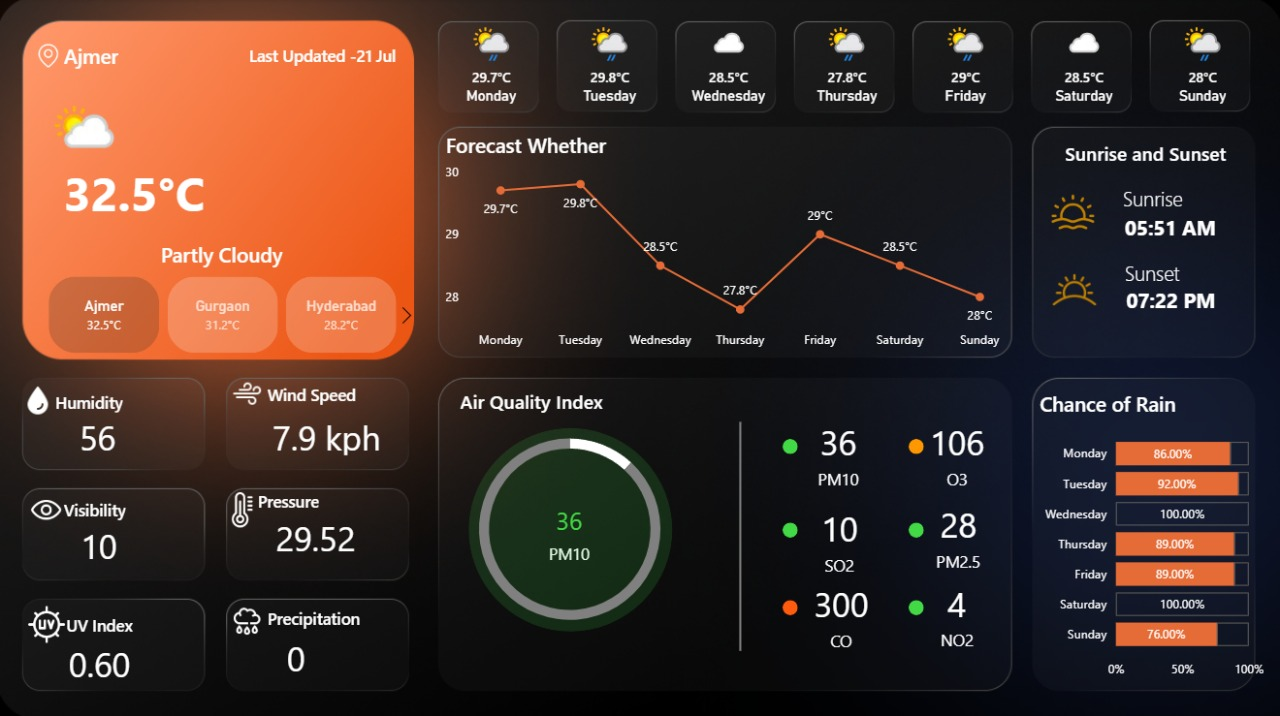

This screenshot's page, from the dashboard's own definition file:
{"tool":"powerbi","page":{"name":"Page 1","canvas":[1280,720],"ordinal":0},"visuals":[{"type":"advancedSlicerVisual","fields":{"Values":["Locations.location.name"]},"box":[26.1,273.1,396.6,86.4],"z":0},{"type":"shape","box":[49.4,149.6,174.3,86.4],"z":1000},{"type":"shape","box":[50.8,236,345.8,37],"z":2000},{"type":"shape","box":[65.9,26.1,171.5,61.7],"z":3000},{"type":"shape","box":[185.2,32.9,211.3,48],"z":4000},{"type":"image","box":[31.6,41.2,38.4,32.9],"z":5000},{"type":"cardVisual","fields":{"Data":["Min(Current.current.condition.icon)"]},"box":[31.6,81,97.4,74.1],"z":6000},{"type":"image","box":[16.5,487.1,64.5,45.3],"z":7000},{"type":"image","box":[16.5,599.7,64.5,49.4],"z":8000},{"type":"image","box":[19.2,381.5,42.5,39.8],"z":9000},{"type":"image","box":[229.2,373.2,39.8,42.5],"z":10000},{"type":"image","box":[218.2,487.1,50.8,45.3],"z":11000},{"type":"image","box":[1029.2,256.6,86.4,67.2],"z":12000},{"type":"image","box":[216.8,599.7,63.1,42.5],"z":13000},{"type":"shape","box":[269,381.5,105.7,26.1],"z":14000},{"type":"shape","box":[57.6,377.4,71.4,48],"z":15000},{"type":"shape","box":[269,594.2,105.7,48],"z":16000},{"type":"shape","box":[65.9,484.4,83.7,48],"z":17000},{"type":"shape","box":[68.6,599.7,81,48],"z":18000},{"type":"shape","box":[259.3,484.4,90.6,31.6],"z":19000},{"type":"card","fields":{"Values":["Sum(Current.current.humidity)"]},"box":[70,415.8,60.4,43.9],"z":20000},{"type":"card","fields":{"Values":["_Measures.Wind_Speed"]},"box":[259.3,415.8,137.2,43.9],"z":21000},{"type":"card","fields":{"Values":["Sum(Current.current.pressure_in)"]},"box":[269,516,96.1,43.9],"z":22000},{"type":"card","fields":{"Values":["Sum(Current.current.vis_km)"]},"box":[61.7,516,79.6,60.4],"z":23000},{"type":"card","fields":{"Values":["Sum(Current.current.uv)"]},"box":[61.7,642.2,81,43.9],"z":24000},{"type":"card","fields":{"Values":["Sum(Current.current.precip_mm)"]},"box":[252.5,628.5,90.6,59],"z":25000},{"type":"advancedSlicerVisual","fields":{"Values":["forcast_day.Day_Name"]},"box":[432.2,16.5,830.2,101.5],"z":26000},{"type":"lineChart","title":"Forecast Whether","fields":{"Y":["Sum(forcast_day.forecast.forecastday.day.avgtemp_c)"],"Category":["forcast_day.Day_Name"]},"box":[441.9,133.1,573.6,226.4],"z":27000},{"type":"shape","box":[1063.5,141.3,178.4,26.1],"z":28000},{"type":"shape","box":[1096.4,185.2,107,24.7],"z":29000},{"type":"shape","box":[1104.6,258,89.2,30.2],"z":30000},{"type":"shape","box":[1093.7,205.8,146.8,43.9],"z":31000},{"type":"shape","box":[1106,281.3,123.5,38.4],"z":32000},{"type":"image","box":[1042.9,186.6,56.3,52.1],"z":33000},{"type":"hundredPercentStackedBarChart","title":"Chance of Rain","fields":{"Y":["Sum(forcast_day.forecast.forecastday.day.daily_chance_of_rain)","Current.Left_Value_Rain"],"Category":["forcast_day.Day_Name"]},"box":[1033.3,391.1,233.3,296.4],"z":34000},{"type":"shape","box":[461.1,388.3,178.4,26.1],"z":35000},{"type":"card","fields":{"Values":["Sum(Current.current.air_quality.co)"]},"box":[791,578,97.6,74.8],"z":36000},{"type":"card","fields":{"Values":["Sum(Current.current.air_quality.no2)"]},"box":[915.2,575.5,79.9,78.6],"z":37000},{"type":"card","fields":{"Values":["Sum(Current.current.air_quality.o3)"]},"box":[915.2,414.5,79.9,78.6],"z":38000},{"type":"card","fields":{"Values":["Sum(Current.current.air_quality.pm2_5)"]},"box":[916.5,496.9,79.9,78.6],"z":39000},{"type":"card","fields":{"Values":["Sum(Current.current.air_quality.pm10)"]},"box":[797.3,414.5,79.9,78.6],"z":40000},{"type":"card","fields":{"Values":["Sum(Current.current.air_quality.so2)"]},"box":[798.6,500.7,79.9,78.6],"z":41000},{"type":"shape","box":[782.1,438.6,15.2,15.2],"z":42000},{"type":"shape","box":[782.1,599.6,15.2,15.2],"z":43000},{"type":"shape","box":[907.6,522.2,15.2,15.2],"z":44000},{"type":"shape","box":[782.1,522.2,15.2,15.2],"z":45000},{"type":"shape","box":[907.6,599.6,15.2,15.2],"z":46000},{"type":"shape","box":[907.6,438.6,15.2,15.2],"z":47000},{"type":"shape","box":[661.7,422.1,157.2,228.2],"z":48000},{"type":"card","fields":{"Values":["Sum(Current.current.air_quality.pm10)"]},"box":[529.8,493.1,79.9,78.6],"z":49000},{"type":"shape","box":[469,428.4,202.8,202.8],"z":50000},{"type":"donutChart","fields":{"Y":["Sum(Current.current.air_quality.pm10)","_Measures.Left_Value_PM10"]},"box":[431,412,278.9,235.8],"z":51000}]}

Visuals, with their boxes in screenshot pixels (x1, y1, x2, y2), scaled from the page's 1280x720 canvas onto the 1280x716 screenshot:
advancedSlicerVisual - Locations.location.name: bbox=(26, 272, 423, 358)
shape: bbox=(49, 149, 224, 235)
shape: bbox=(51, 235, 397, 271)
shape: bbox=(66, 26, 237, 87)
shape: bbox=(185, 33, 396, 80)
image: bbox=(32, 41, 70, 74)
cardVisual - Min(Current.current.condition.icon): bbox=(32, 81, 129, 154)
image: bbox=(16, 484, 81, 529)
image: bbox=(16, 596, 81, 645)
image: bbox=(19, 379, 62, 419)
image: bbox=(229, 371, 269, 413)
image: bbox=(218, 484, 269, 529)
image: bbox=(1029, 255, 1116, 322)
image: bbox=(217, 596, 280, 639)
shape: bbox=(269, 379, 375, 405)
shape: bbox=(58, 375, 129, 423)
shape: bbox=(269, 591, 375, 639)
shape: bbox=(66, 482, 150, 529)
shape: bbox=(69, 596, 150, 644)
shape: bbox=(259, 482, 350, 513)
card - Sum(Current.current.humidity): bbox=(70, 413, 130, 457)
card - _Measures.Wind_Speed: bbox=(259, 413, 396, 457)
card - Sum(Current.current.pressure_in): bbox=(269, 513, 365, 557)
card - Sum(Current.current.vis_km): bbox=(62, 513, 141, 573)
card - Sum(Current.current.uv): bbox=(62, 639, 143, 682)
card - Sum(Current.current.precip_mm): bbox=(252, 625, 343, 684)
advancedSlicerVisual - forcast_day.Day_Name: bbox=(432, 16, 1262, 117)
"Forecast Whether" lineChart: bbox=(442, 132, 1016, 358)
shape: bbox=(1064, 141, 1242, 166)
shape: bbox=(1096, 184, 1203, 209)
shape: bbox=(1105, 257, 1194, 287)
shape: bbox=(1094, 205, 1240, 248)
shape: bbox=(1106, 280, 1230, 318)
image: bbox=(1043, 186, 1099, 237)
"Chance of Rain" hundredPercentStackedBarChart: bbox=(1033, 389, 1267, 684)
shape: bbox=(461, 386, 640, 412)
card - Sum(Current.current.air_quality.co): bbox=(791, 575, 889, 649)
card - Sum(Current.current.air_quality.no2): bbox=(915, 572, 995, 650)
card - Sum(Current.current.air_quality.o3): bbox=(915, 412, 995, 490)
card - Sum(Current.current.air_quality.pm2_5): bbox=(916, 494, 996, 572)
card - Sum(Current.current.air_quality.pm10): bbox=(797, 412, 877, 490)
card - Sum(Current.current.air_quality.so2): bbox=(799, 498, 878, 576)
shape: bbox=(782, 436, 797, 451)
shape: bbox=(782, 596, 797, 611)
shape: bbox=(908, 519, 923, 534)
shape: bbox=(782, 519, 797, 534)
shape: bbox=(908, 596, 923, 611)
shape: bbox=(908, 436, 923, 451)
shape: bbox=(662, 420, 819, 647)
card - Sum(Current.current.air_quality.pm10): bbox=(530, 490, 610, 569)
shape: bbox=(469, 426, 672, 628)
donutChart - Sum(Current.current.air_quality.pm10) x _Measures.Left_Value_PM10: bbox=(431, 410, 710, 644)
